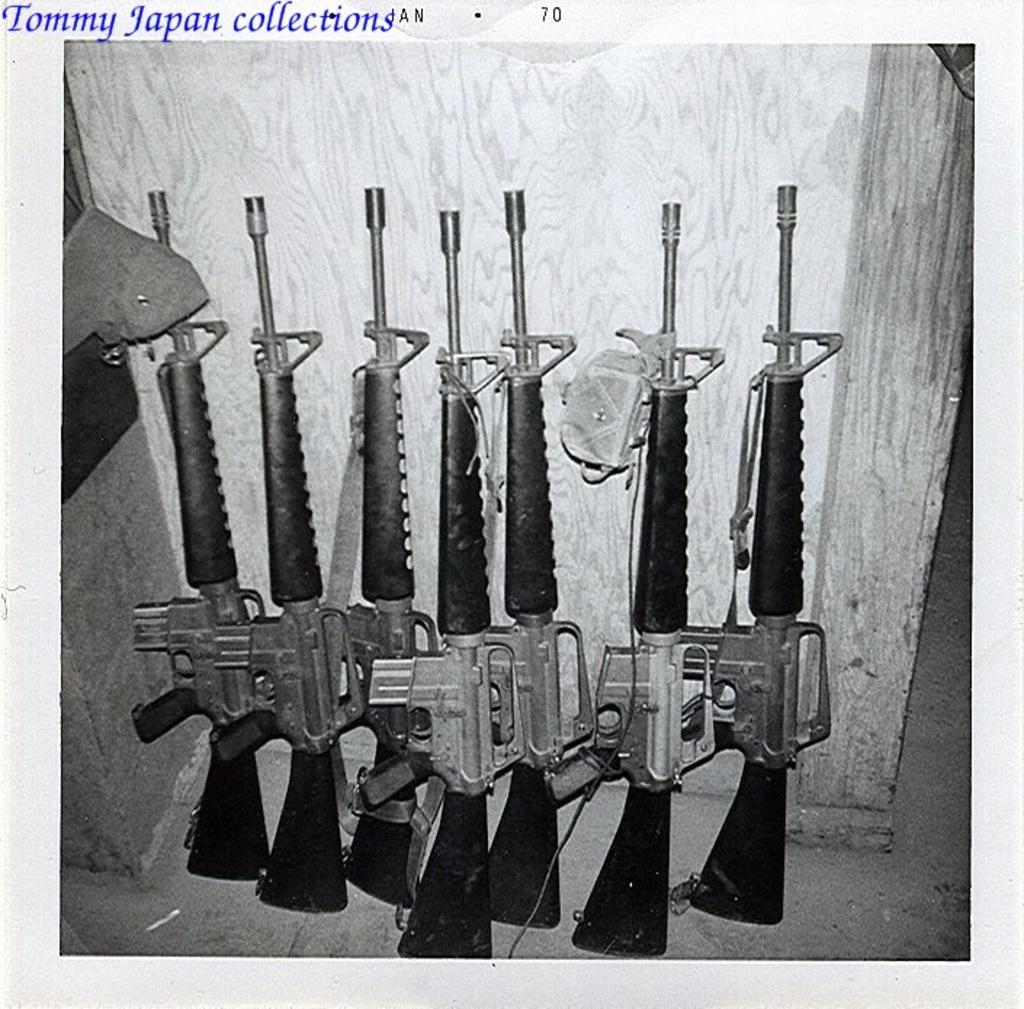Rifle: (356, 203, 533, 958), (549, 202, 726, 957), (671, 181, 844, 928), (208, 195, 363, 915), (131, 187, 280, 886), (489, 187, 596, 932), (331, 186, 437, 909)
